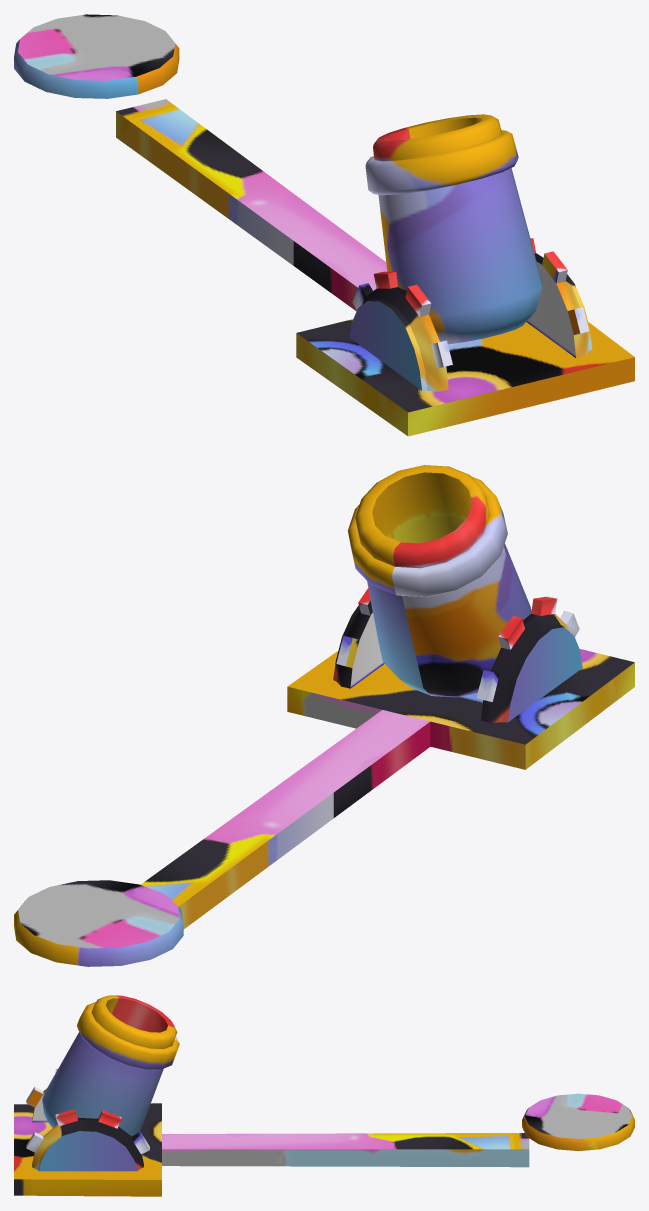
File: dif1.1.fbx
3 renders of one model, top to bottom at view 1: azimuth 30°, elevation 25°; view 2: azimuth 150°, elevation 25°; view 3: azimuth 270°, elevation 25°, orthographic. The views are drawn at different scales.
Visible parts, largest first — view 1: Cube.009; view 2: Cube.009; view 3: Cube.009.
Part boxes in pixels (x1,y1,x2,y2): Cube.009: (14,14,634,436); Cube.009: (14,465,634,966); Cube.009: (14,995,634,1196).
Bounding box in the file's own units: 378 × 362 × 1292.
